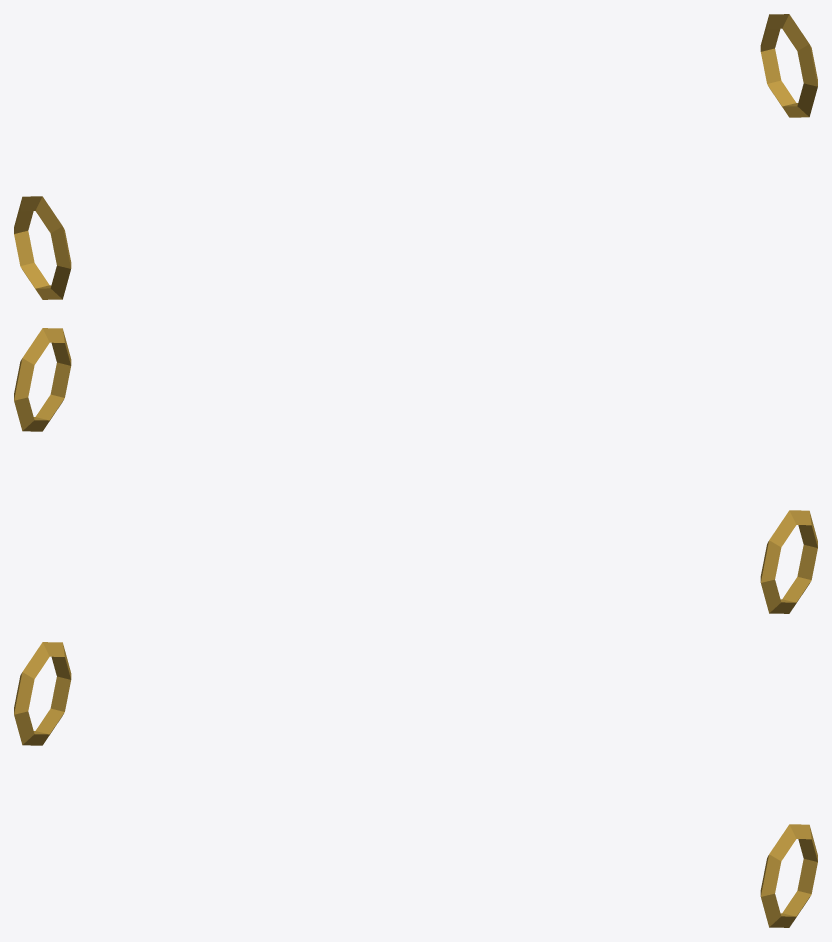
Rendered from acc-gold-hoops.high.7fdfd62d.glb.
3 views of the same model, one above another, from view 1: azimuth 30°, elevation 25°; view 2: azimuth 150°, elevation 25°; view 3: azimuth 330°, elevation 25° (orthographic).
Parts seen in each view (by area): view 1: acc-gold-hoops; view 2: acc-gold-hoops; view 3: acc-gold-hoops.
Part boxes in pixels (bbox=[...]): acc-gold-hoops: bbox=[14, 14, 817, 299]; acc-gold-hoops: bbox=[14, 328, 817, 613]; acc-gold-hoops: bbox=[14, 642, 817, 927].
Size of the model in its own units: 0.2028 by 0.0264 by 0.0264.
